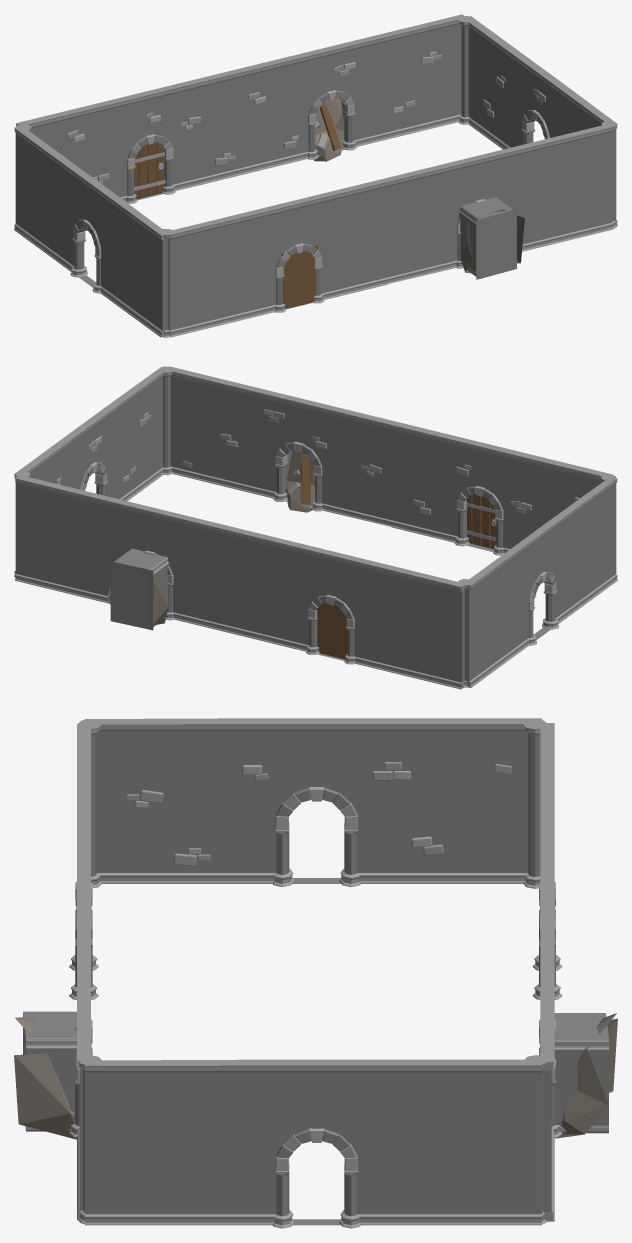
The model's file is Map3_wall.fbx.
3 views of the same model, one above another, from view 1: azimuth 30°, elevation 25°; view 2: azimuth 150°, elevation 25°; view 3: azimuth 270°, elevation 25° (orthographic). The views are drawn at different scales.
Parts seen in each view (by area): view 1: Map 1 wall; view 2: Map 1 wall; view 3: Map 1 wall.
Boxes of the visible parts, x1=… form: Map 1 wall: x1=14, y1=14, x2=617, y2=337; Map 1 wall: x1=14, y1=366, x2=617, y2=689; Map 1 wall: x1=14, y1=718, x2=617, y2=1228.
Size of the model in its own units: 5896 by 1368 by 4250.
